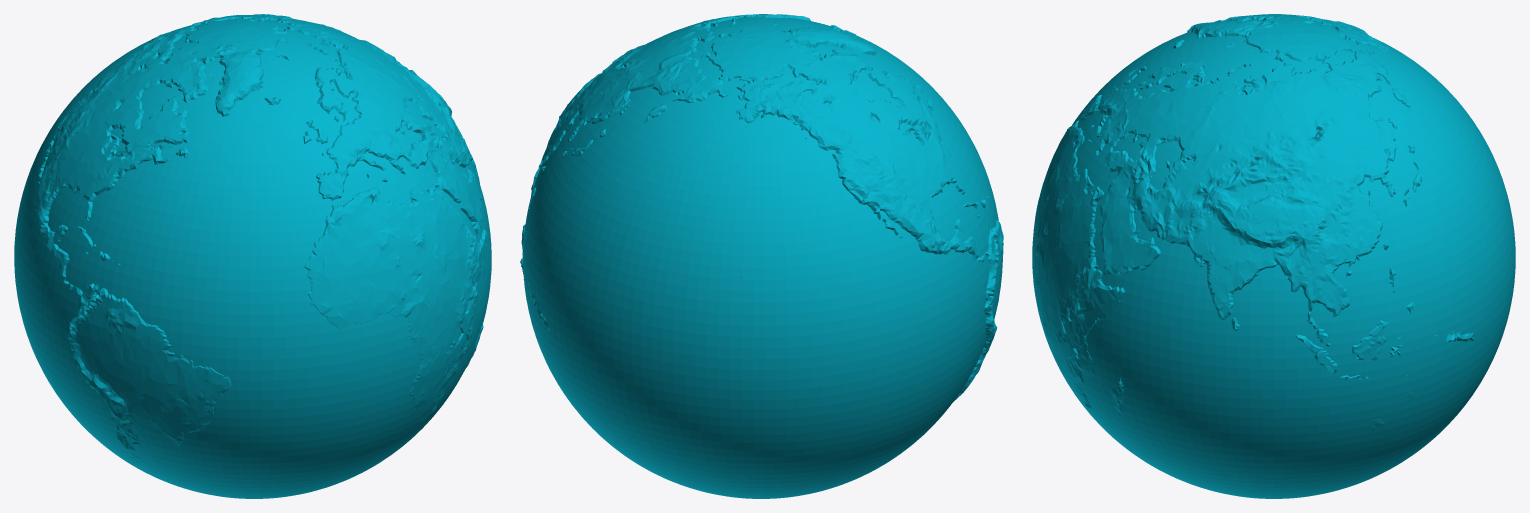
The model's file is earth.glb.
The picture shows the model from 3 angles, left to right: view 1: azimuth 30°, elevation 25°; view 2: azimuth 150°, elevation 25°; view 3: azimuth 270°, elevation 25°; orthographic projection.
Visible parts, largest first — view 1: Mesh_Mesh_head_geo.001_lambert2SG.001; view 2: Mesh_Mesh_head_geo.001_lambert2SG.001; view 3: Mesh_Mesh_head_geo.001_lambert2SG.001.
Boxes of the visible parts, left/top/right/bottom form: Mesh_Mesh_head_geo.001_lambert2SG.001: left=14, top=14, right=491, bottom=498; Mesh_Mesh_head_geo.001_lambert2SG.001: left=520, top=14, right=1003, bottom=498; Mesh_Mesh_head_geo.001_lambert2SG.001: left=1032, top=14, right=1515, bottom=498.
Size of the model in its own units: 80.51 by 81.31 by 81.
